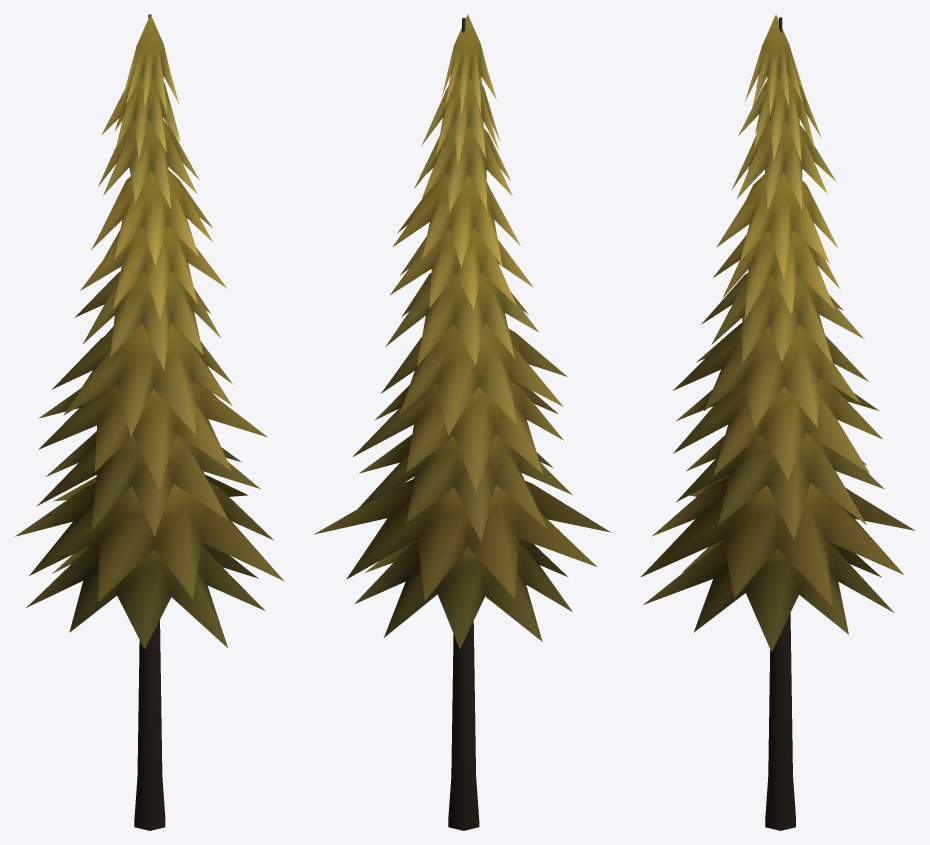
3 renders of one model, left to right at view 1: azimuth 30°, elevation 25°; view 2: azimuth 150°, elevation 25°; view 3: azimuth 270°, elevation 25°, orthographic.
Parts seen in each view (by area): view 1: TR_LarchTurning; view 2: TR_LarchTurning; view 3: TR_LarchTurning.
Boxes of the visible parts, left/top/right/bottom form: TR_LarchTurning: left=15, top=14, right=283, bottom=830; TR_LarchTurning: left=314, top=14, right=610, bottom=830; TR_LarchTurning: left=641, top=14, right=915, bottom=830.
Bounding box in the file's own units: 6.52 × 19.98 × 6.18.
